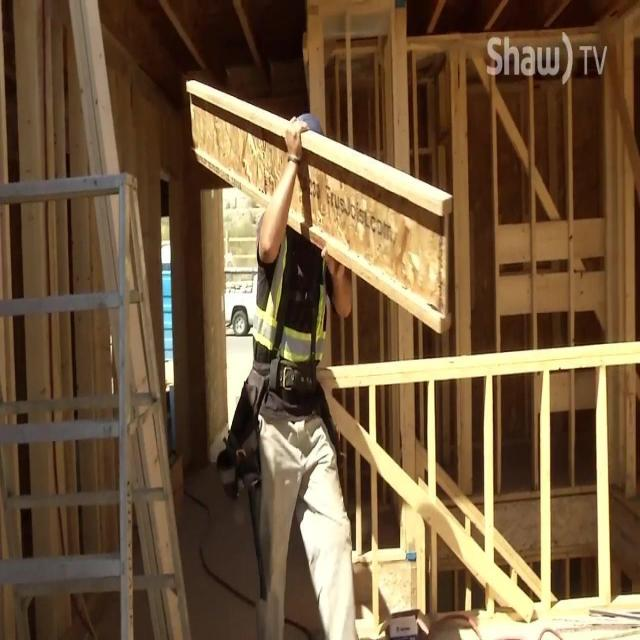Vest: (251, 224, 327, 364)
